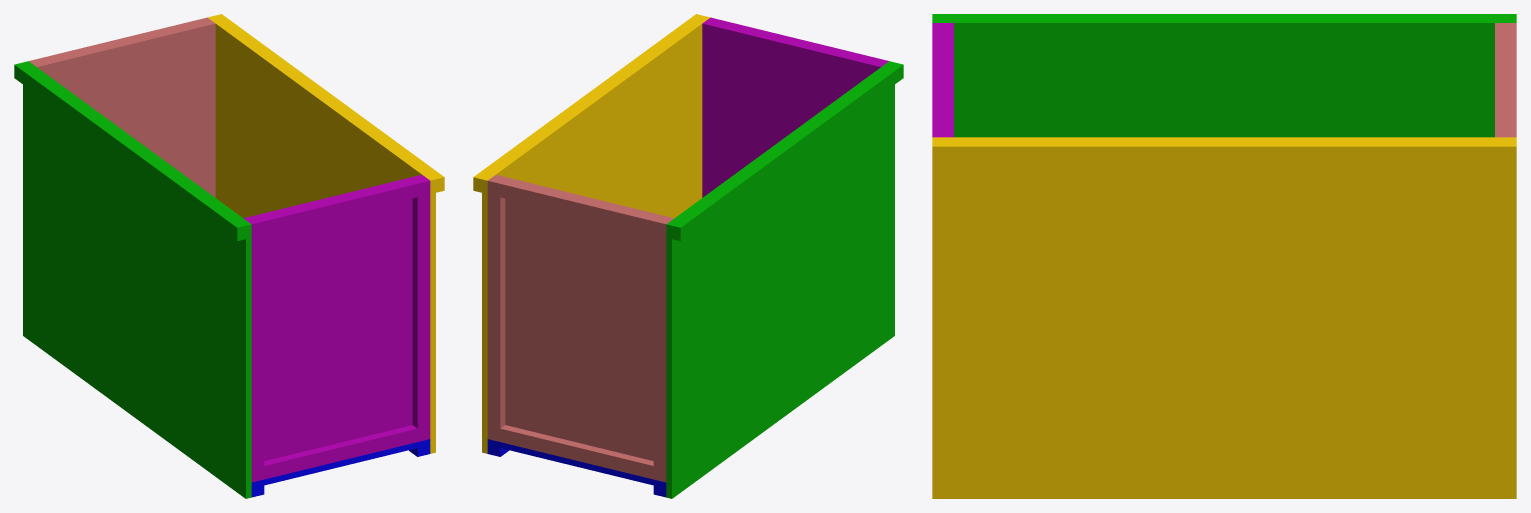
The model's file is result.glb.
3 views of the same model, side by side, from view 1: azimuth 30°, elevation 25°; view 2: azimuth 150°, elevation 25°; view 3: azimuth 270°, elevation 25° (orthographic). The views are drawn at different scales.
Parts seen in each view (by area): view 1: f04cf9fd-97a0-42e7-b642-0558d217d7f6__Box_6, e221d155-33d2-497b-9e4c-5fd0fd81a7c7__Box_3, c2c1de29-1af3-433b-9ea9-912a132f39d4__undefined, 822e0ff3-e13c-4582-aa9e-c959843213c8__undefined, 717cbb51-c7a4-45bc-a110-ae7aaa81543c__Box_7, 228841a8-0bde-4350-bcb7-9fbc7475b55d__undefined, 20614450-4b0c-40df-9e23-c15e5f63769f__Box_4, 1b7fa422-ce79-453e-8544-a47194fa8531__undefined, 8ae9fa07-e6bf-4d66-b62e-d1e74f26fdd1__Box_5, 8eff8704-8dcf-4268-89be-000ec5ba1f79__undefined, e2a127e9-0669-492a-ae28-01290bc31d6e__Box, 46612812-119b-437c-bd77-0ea86baa6903__undefined; view 2: f04cf9fd-97a0-42e7-b642-0558d217d7f6__Box_6, 822e0ff3-e13c-4582-aa9e-c959843213c8__undefined, c2c1de29-1af3-433b-9ea9-912a132f39d4__undefined, e221d155-33d2-497b-9e4c-5fd0fd81a7c7__Box_3, 717cbb51-c7a4-45bc-a110-ae7aaa81543c__Box_7, 39dbd0f9-e05b-4701-bc06-63a26423a4ab__undefined, 0b025eb7-ec1d-49bb-aec3-39c6e2aa86f4__undefined, 46612812-119b-437c-bd77-0ea86baa6903__undefined, 5b41d131-c241-4e9d-bb85-fa823e4ad789__undefined, 8eff8704-8dcf-4268-89be-000ec5ba1f79__undefined, e2a127e9-0669-492a-ae28-01290bc31d6e__Box, 1b7fa422-ce79-453e-8544-a47194fa8531__undefined; view 3: c2c1de29-1af3-433b-9ea9-912a132f39d4__undefined, f04cf9fd-97a0-42e7-b642-0558d217d7f6__Box_6, 8eff8704-8dcf-4268-89be-000ec5ba1f79__undefined, 717cbb51-c7a4-45bc-a110-ae7aaa81543c__Box_7, 1b7fa422-ce79-453e-8544-a47194fa8531__undefined, 46612812-119b-437c-bd77-0ea86baa6903__undefined, e221d155-33d2-497b-9e4c-5fd0fd81a7c7__Box_3, 822e0ff3-e13c-4582-aa9e-c959843213c8__undefined.
Boxes of the visible parts, <box> form: f04cf9fd-97a0-42e7-b642-0558d217d7f6__Box_6: <box>23,61,251,498</box>; e221d155-33d2-497b-9e4c-5fd0fd81a7c7__Box_3: <box>244,175,424,460</box>; c2c1de29-1af3-433b-9ea9-912a132f39d4__undefined: <box>207,16,435,453</box>; 822e0ff3-e13c-4582-aa9e-c959843213c8__undefined: <box>34,21,215,197</box>; 717cbb51-c7a4-45bc-a110-ae7aaa81543c__Box_7: <box>14,62,245,241</box>; 228841a8-0bde-4350-bcb7-9fbc7475b55d__undefined: <box>412,177,430,441</box>; 20614450-4b0c-40df-9e23-c15e5f63769f__Box_4: <box>247,217,264,482</box>; 1b7fa422-ce79-453e-8544-a47194fa8531__undefined: <box>260,180,417,234</box>; 8ae9fa07-e6bf-4d66-b62e-d1e74f26fdd1__Box_5: <box>264,425,417,479</box>; 8eff8704-8dcf-4268-89be-000ec5ba1f79__undefined: <box>213,14,444,192</box>; e2a127e9-0669-492a-ae28-01290bc31d6e__Box: <box>251,439,430,488</box>; 46612812-119b-437c-bd77-0ea86baa6903__undefined: <box>42,20,198,61</box>; f04cf9fd-97a0-42e7-b642-0558d217d7f6__Box_6: <box>666,61,894,498</box>; 822e0ff3-e13c-4582-aa9e-c959843213c8__undefined: <box>493,175,673,460</box>; c2c1de29-1af3-433b-9ea9-912a132f39d4__undefined: <box>482,16,710,453</box>; e221d155-33d2-497b-9e4c-5fd0fd81a7c7__Box_3: <box>702,21,883,197</box>; 717cbb51-c7a4-45bc-a110-ae7aaa81543c__Box_7: <box>672,62,903,241</box>; 39dbd0f9-e05b-4701-bc06-63a26423a4ab__undefined: <box>487,177,505,441</box>; 0b025eb7-ec1d-49bb-aec3-39c6e2aa86f4__undefined: <box>653,217,670,482</box>; 46612812-119b-437c-bd77-0ea86baa6903__undefined: <box>500,180,657,234</box>; 5b41d131-c241-4e9d-bb85-fa823e4ad789__undefined: <box>500,425,653,479</box>; 8eff8704-8dcf-4268-89be-000ec5ba1f79__undefined: <box>473,14,704,192</box>; e2a127e9-0669-492a-ae28-01290bc31d6e__Box: <box>487,439,666,488</box>; 1b7fa422-ce79-453e-8544-a47194fa8531__undefined: <box>719,20,875,61</box>; c2c1de29-1af3-433b-9ea9-912a132f39d4__undefined: <box>932,137,1516,498</box>; f04cf9fd-97a0-42e7-b642-0558d217d7f6__Box_6: <box>932,19,1516,137</box>; 8eff8704-8dcf-4268-89be-000ec5ba1f79__undefined: <box>932,141,1516,164</box>; 717cbb51-c7a4-45bc-a110-ae7aaa81543c__Box_7: <box>932,14,1516,19</box>; 1b7fa422-ce79-453e-8544-a47194fa8531__undefined: <box>932,31,945,129</box>; 46612812-119b-437c-bd77-0ea86baa6903__undefined: <box>1503,31,1516,129</box>; e221d155-33d2-497b-9e4c-5fd0fd81a7c7__Box_3: <box>945,23,953,137</box>; 822e0ff3-e13c-4582-aa9e-c959843213c8__undefined: <box>1495,23,1503,137</box>.
Size of the model in its own units: 580 by 730 by 1080.
